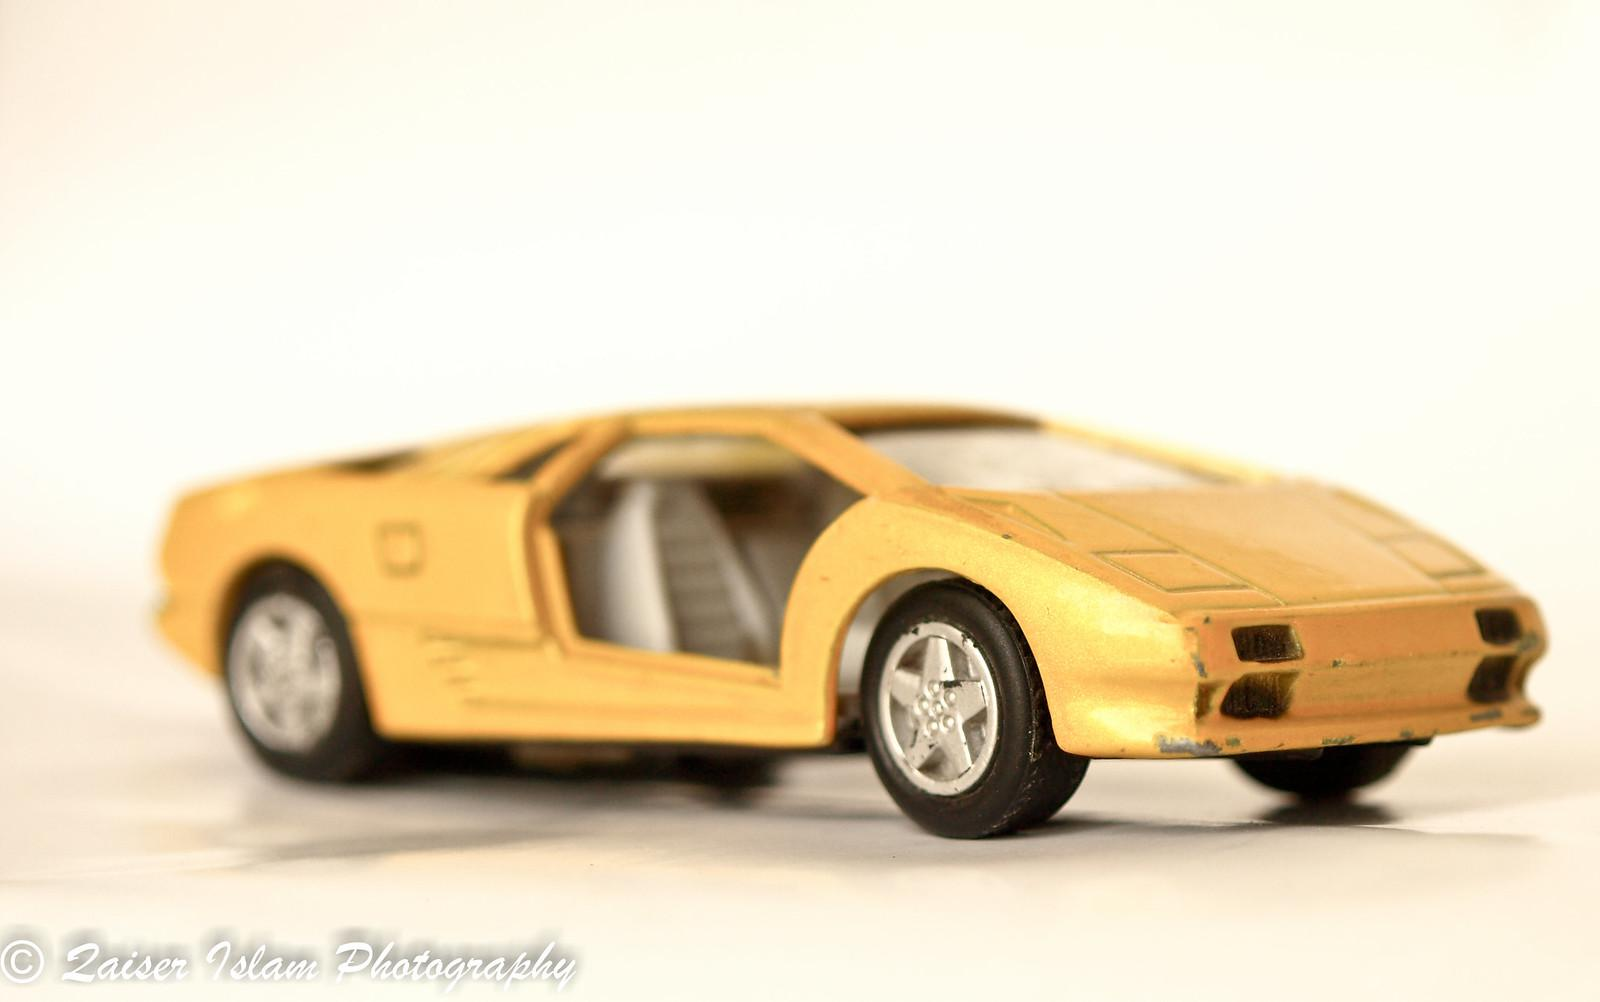front-bumper-dent: (1101, 595, 1558, 768)
